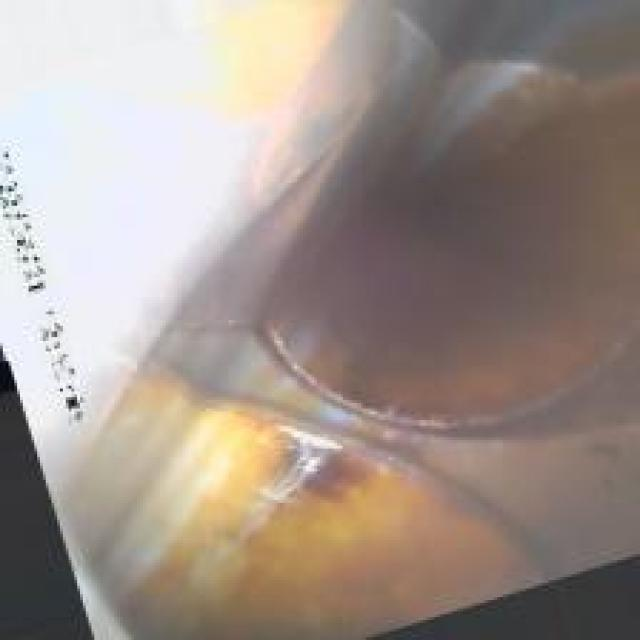joint: (106, 63, 628, 551)
